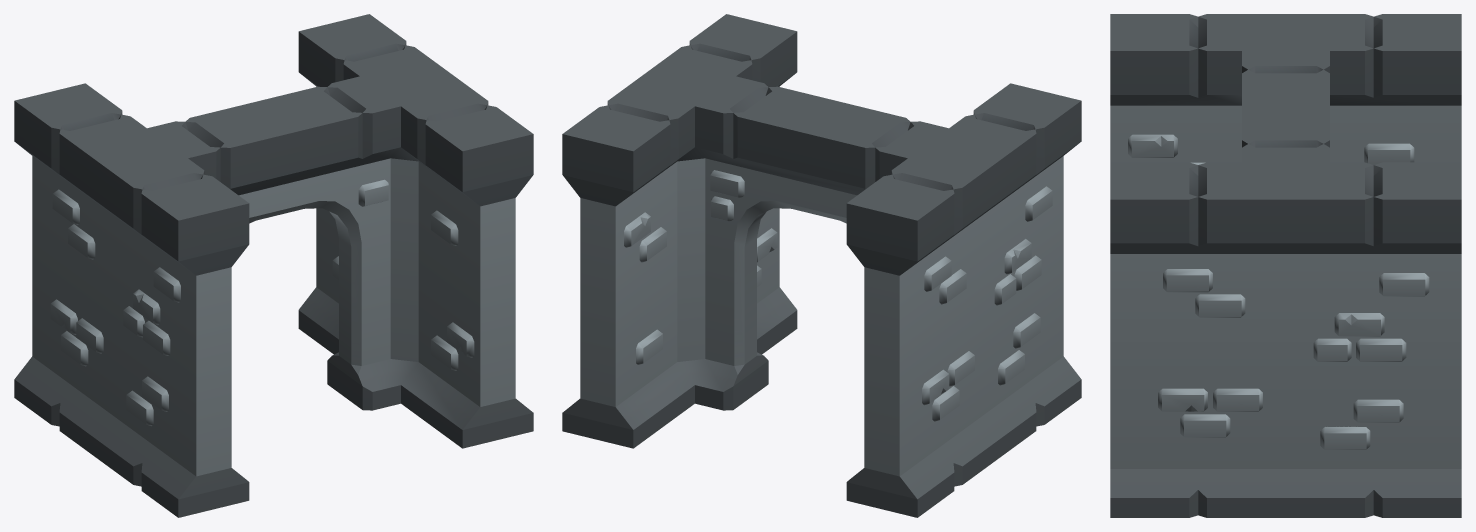
File: wall_doorway_sides.obj
3 renders of one model, left to right at view 1: azimuth 30°, elevation 25°; view 2: azimuth 150°, elevation 25°; view 3: azimuth 270°, elevation 25°, orthographic. The views are drawn at different scales.
Visible parts, largest first — view 1: wall_doorway_sides; view 2: wall_doorway_sides; view 3: wall_doorway_sides.
Part boxes in pixels (<box>): wall_doorway_sides: <box>14,14,533,517</box>; wall_doorway_sides: <box>562,14,1081,517</box>; wall_doorway_sides: <box>1110,14,1461,517</box>.
Size of the model in its own units: 5 by 4 by 4.
Materials: 1 (1 with a texture image).
